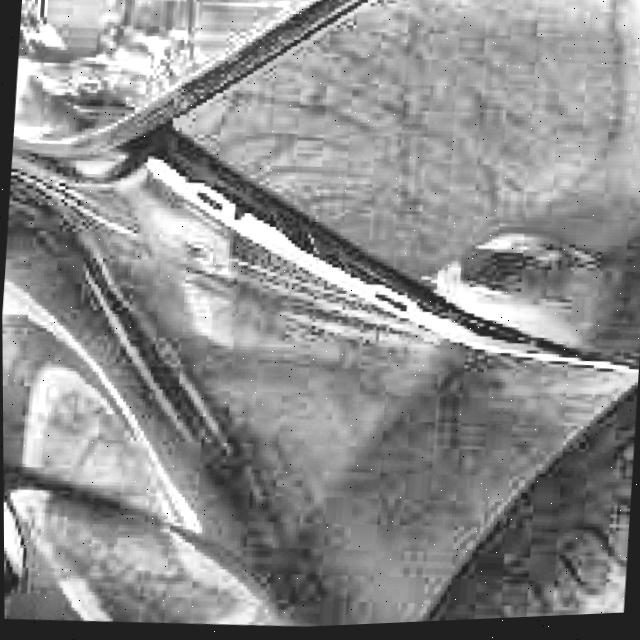bumper_dent: (2, 323, 300, 637), (432, 220, 611, 357), (127, 190, 266, 353)
